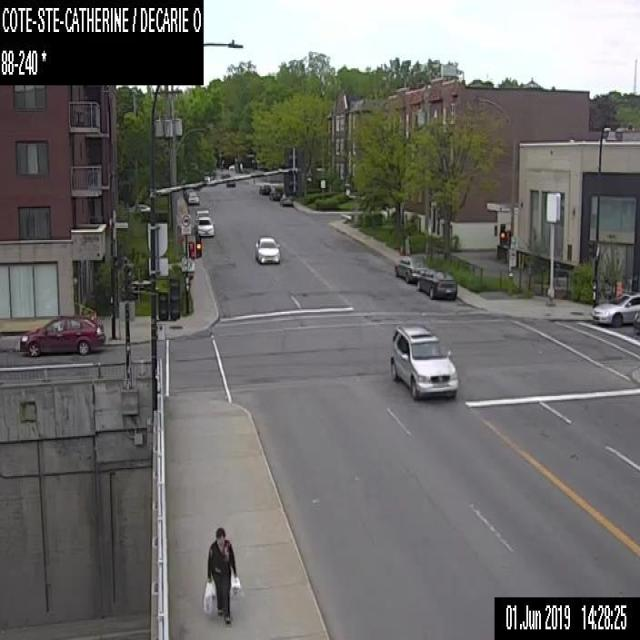pedestrian: (201, 525, 240, 623)
vehicle: (388, 324, 458, 399), (18, 313, 106, 356), (592, 291, 639, 324), (416, 269, 456, 299), (393, 256, 428, 282), (255, 235, 279, 262), (194, 216, 213, 236), (268, 186, 281, 199), (194, 209, 210, 219), (280, 192, 292, 205), (186, 192, 198, 204), (633, 310, 639, 330), (228, 162, 242, 170), (258, 184, 270, 193), (225, 178, 235, 186)
